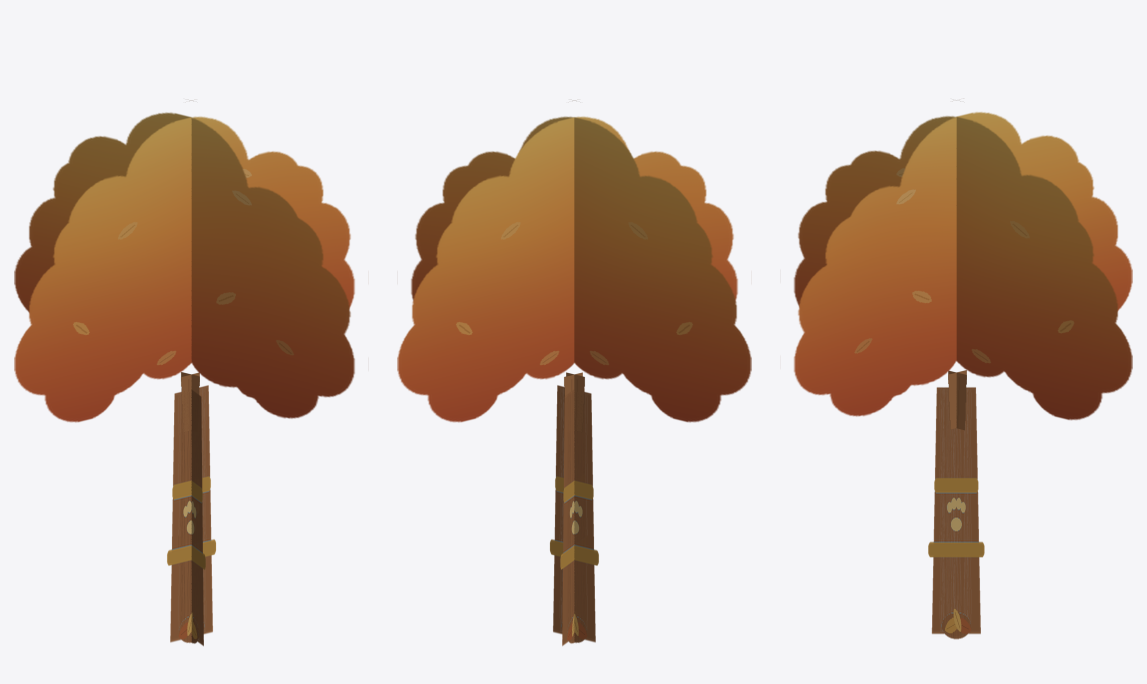
File: nyanisyarud-tree-orange.glb
3 renders of one model, left to right at view 1: azimuth 30°, elevation 25°; view 2: azimuth 150°, elevation 25°; view 3: azimuth 270°, elevation 25°, orthographic.
Parts seen in each view (by area): view 1: Autumn_Tree_Crossed_Cards; view 2: Autumn_Tree_Crossed_Cards; view 3: Autumn_Tree_Crossed_Cards.
Boxes of the visible parts, x1,y1,x2,y2 form: Autumn_Tree_Crossed_Cards: [14, 100, 354, 646]; Autumn_Tree_Crossed_Cards: [397, 100, 751, 645]; Autumn_Tree_Crossed_Cards: [794, 112, 1132, 639].
Bounding box in the file's own units: 1.8 × 2.65 × 1.56.
2 materials, 2 textured.
